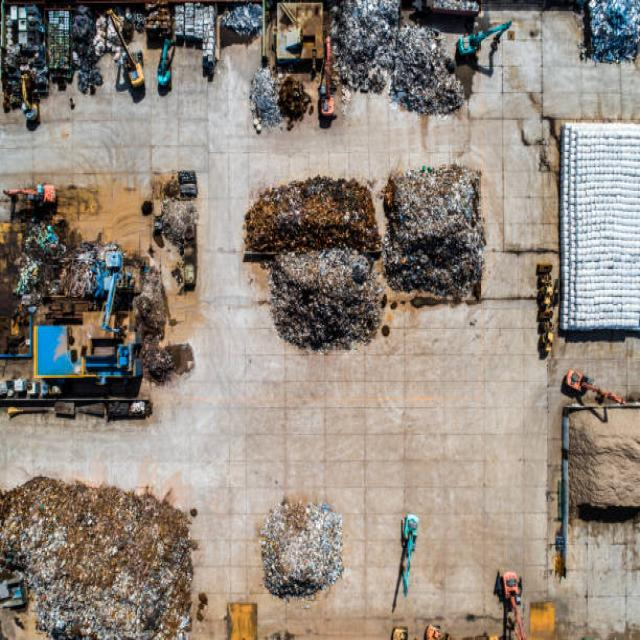trash: (254, 170, 477, 349), (12, 4, 258, 109), (2, 513, 191, 629), (328, 7, 476, 112), (260, 498, 343, 600)
